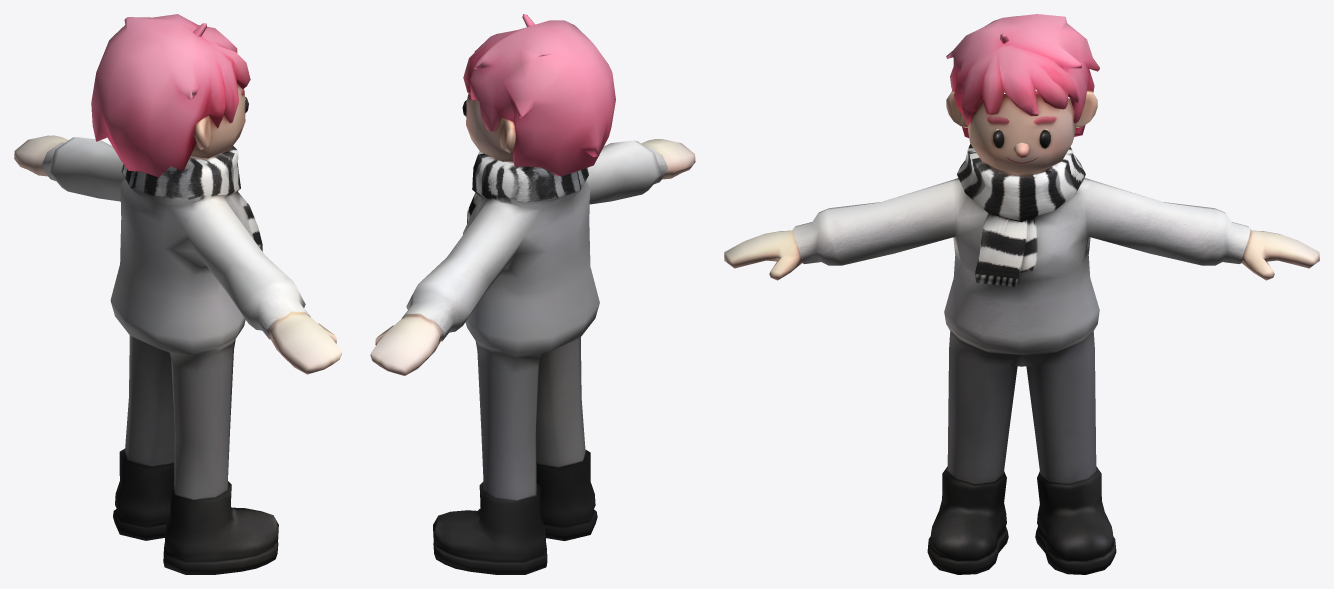
3 renders of one model, left to right at view 1: azimuth 30°, elevation 25°; view 2: azimuth 150°, elevation 25°; view 3: azimuth 270°, elevation 25°, orthographic.
Visible parts, largest first — view 1: tripo_node_07473506-6bfa-409a-94be-c038dccec002; view 2: tripo_node_07473506-6bfa-409a-94be-c038dccec002; view 3: tripo_node_07473506-6bfa-409a-94be-c038dccec002.
Boxes of the visible parts, x1,y1,x2,y2 form: tripo_node_07473506-6bfa-409a-94be-c038dccec002: [14, 14, 341, 574]; tripo_node_07473506-6bfa-409a-94be-c038dccec002: [370, 14, 695, 574]; tripo_node_07473506-6bfa-409a-94be-c038dccec002: [724, 14, 1319, 574].
Size of the model in its own units: 0.2817 by 0.9595 by 0.9995.
Materials: 1 (1 with a texture image).
